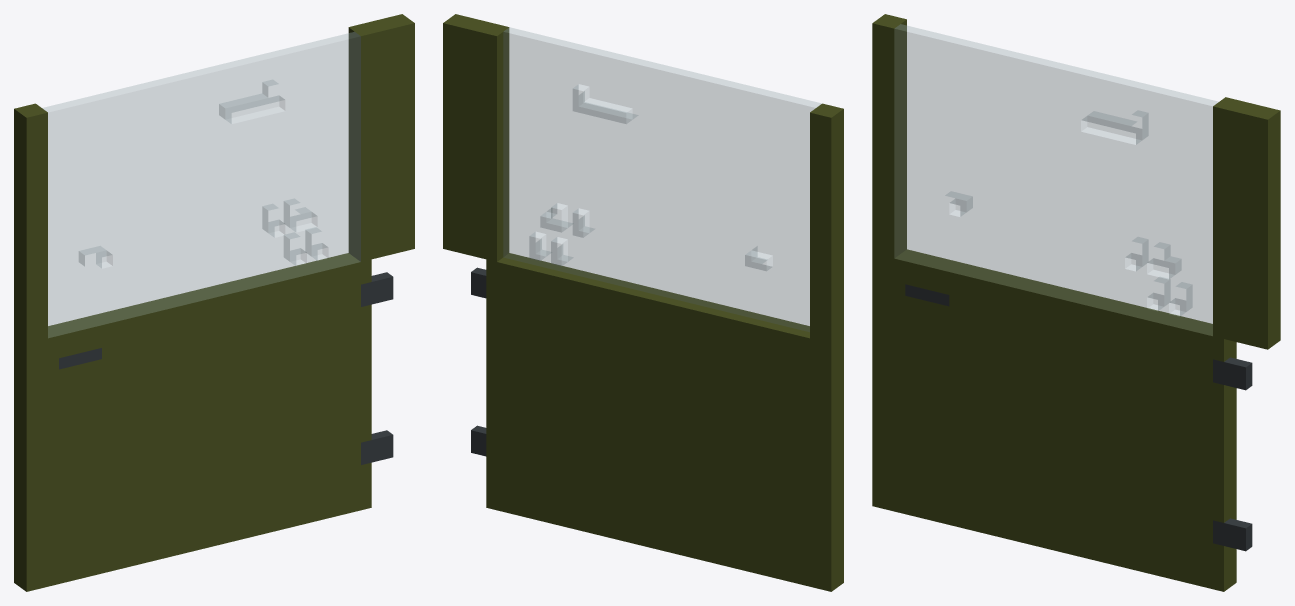
The model's file is military_cargo_truck_door.glb.
3 renders of one model, left to right at view 1: azimuth 30°, elevation 25°; view 2: azimuth 150°, elevation 25°; view 3: azimuth 330°, elevation 25°, orthographic.
Visible parts, largest first — view 1: body:compound; view 2: body:compound; view 3: body:compound.
Part boxes in pixels (<box>): body:compound: <box>14,14,414,591</box>; body:compound: <box>443,14,843,591</box>; body:compound: <box>872,14,1280,591</box>.
Bounding box in the file's own units: 1.12 × 1.31 × 0.0625.
